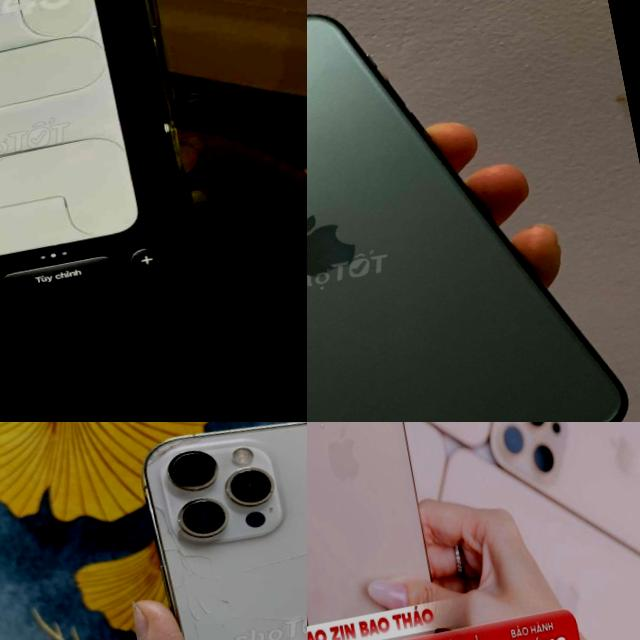gen_11: (307, 0, 640, 422)
gen_12_13: (127, 422, 307, 640)
gen_16: (307, 422, 447, 637)
gen_17: (0, 0, 224, 348)
physical_damage: (150, 447, 307, 640)
